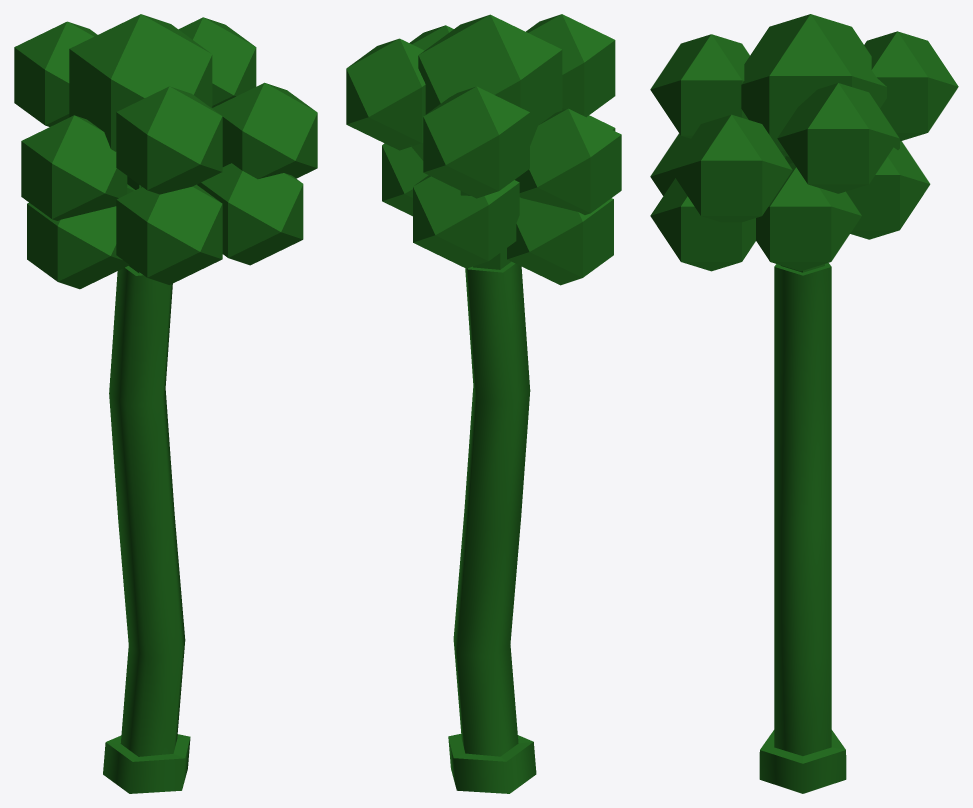
Rendered from CrazyTreeColor.FBX.
The picture shows the model from 3 angles, left to right: view 1: azimuth 30°, elevation 25°; view 2: azimuth 150°, elevation 25°; view 3: azimuth 270°, elevation 25°; orthographic projection.
Parts seen in each view (by area): view 1: GreenTree; view 2: GreenTree; view 3: GreenTree.
Part boxes in pixels (x1,y1,x2,y2): GreenTree: (14,14,317,793); GreenTree: (346,14,621,793); GreenTree: (650,14,958,793).
Bounding box in the file's own units: 29.99 × 94.45 × 34.79.
